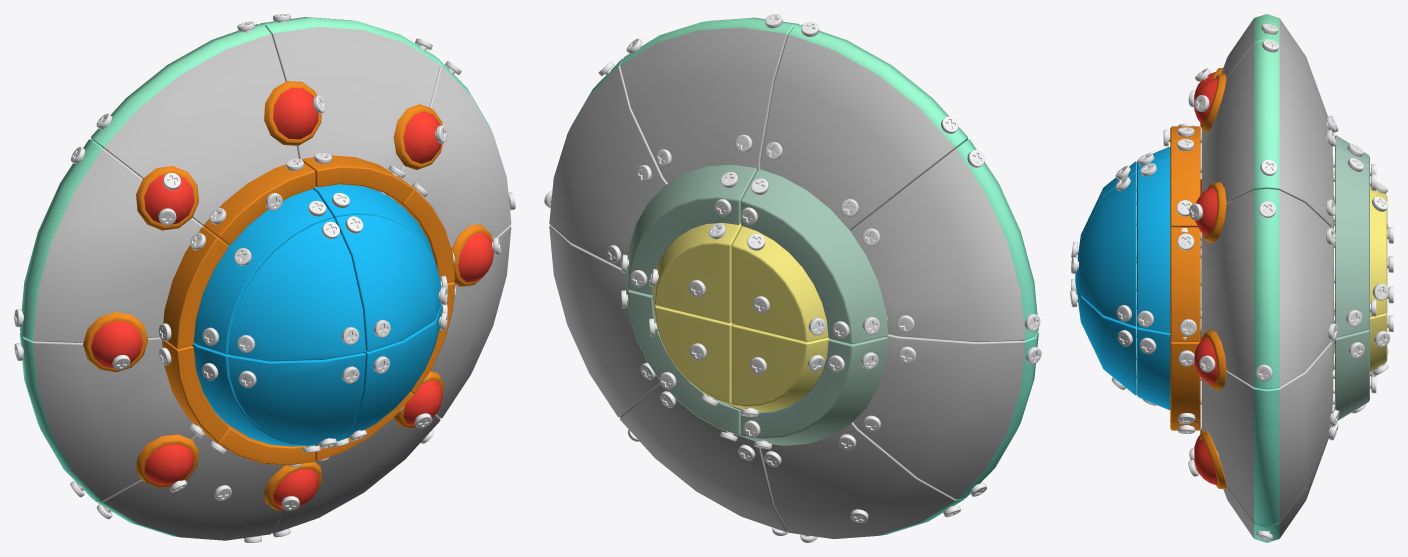
File: Level_62 1.fbx
3 views of the same model, side by side, from view 1: azimuth 30°, elevation 25°; view 2: azimuth 150°, elevation 25°; view 3: azimuth 270°, elevation 25° (orthographic). The views are drawn at different scales.
Parts seen in each view (by area): view 1: Cube_L1 2.001, Cube_L1 12.001, Cube_L1 1.001, Cube_L1 27.001, Cube_L1 17.001, Cube_L1 11.001, Cube_L1 37.001, Cube_L1 18.001, Cube_L1 22.001, Cube_L1 9.001, Cube_L1 28.001, Cube_L1 38.001 (+19 smaller); view 2: Cube_L1 2.001, Cube_L1 12.001, Cube_L1 1.001, Cube_L1 27.001, Cube_L1 11.001, Cube_L1 37.001, Cube_L1 7.001, Cube_L1 38.001, Cube_L1 28.001, Cube_L1 15.001, Cube_L1 8.001, Cube_L1 32.001 (+4 smaller); view 3: Cube_L1 37.001, Cube_L1 27.001, Cube_L1 38.001, Cube_L1 22.001, Cube_L1 32.001, Cube_L1 30.001, Cube_L1 33.001, Cube_L1 21.001, Cube_L1 31.001, Cube_L1 12.001, Cube_L1 29.001, Cube_L1 26.001 (+9 smaller).
Part boxes in pixels (left/top/right/bottom): Cube_L1 2.001: left=20, top=139, right=203, bottom=342; Cube_L1 12.001: left=91, top=24, right=299, bottom=228; Cube_L1 1.001: left=20, top=333, right=195, bottom=500; Cube_L1 27.001: left=260, top=17, right=440, bottom=171; Cube_L1 17.001: left=228, top=218, right=366, bottom=361; Cube_L1 11.001: left=94, top=420, right=285, bottom=540; Cube_L1 37.001: left=387, top=58, right=511, bottom=248; Cube_L1 18.001: left=228, top=353, right=366, bottom=444; Cube_L1 22.001: left=335, top=214, right=440, bottom=351; Cube_L1 9.001: left=194, top=189, right=333, bottom=354; Cube_L1 28.001: left=272, top=414, right=440, bottom=533; Cube_L1 38.001: left=430, top=225, right=511, bottom=418; Cube_L1 2.001: left=850, top=139, right=1038, bottom=342; Cube_L1 12.001: left=760, top=24, right=967, bottom=230; Cube_L1 1.001: left=853, top=332, right=1038, bottom=499; Cube_L1 27.001: left=620, top=17, right=799, bottom=183; Cube_L1 11.001: left=761, top=422, right=964, bottom=538; Cube_L1 37.001: left=549, top=58, right=667, bottom=268; Cube_L1 7.001: left=740, top=169, right=888, bottom=344; Cube_L1 38.001: left=549, top=225, right=659, bottom=417; Cube_L1 28.001: left=620, top=384, right=787, bottom=531; Cube_L1 15.001: left=731, top=226, right=828, bottom=342; Cube_L1 8.001: left=740, top=337, right=888, bottom=445; Cube_L1 32.001: left=626, top=164, right=756, bottom=295; Cube_L1 37.001: left=1201, top=188, right=1333, bottom=389; Cube_L1 27.001: left=1201, top=39, right=1333, bottom=251; Cube_L1 38.001: left=1201, top=312, right=1333, bottom=526; Cube_L1 22.001: left=1075, top=173, right=1136, bottom=326; Cube_L1 32.001: left=1335, top=149, right=1369, bottom=337; Cube_L1 30.001: left=1137, top=160, right=1170, bottom=332; Cube_L1 33.001: left=1170, top=227, right=1200, bottom=341; Cube_L1 21.001: left=1075, top=280, right=1136, bottom=395; Cube_L1 31.001: left=1335, top=328, right=1369, bottom=420; Cube_L1 12.001: left=1201, top=14, right=1333, bottom=200; Cube_L1 29.001: left=1137, top=327, right=1170, bottom=409; Cube_L1 26.001: left=1170, top=141, right=1200, bottom=228.
Size of the model in its own units: 6.73 by 6.75 by 4.03.
